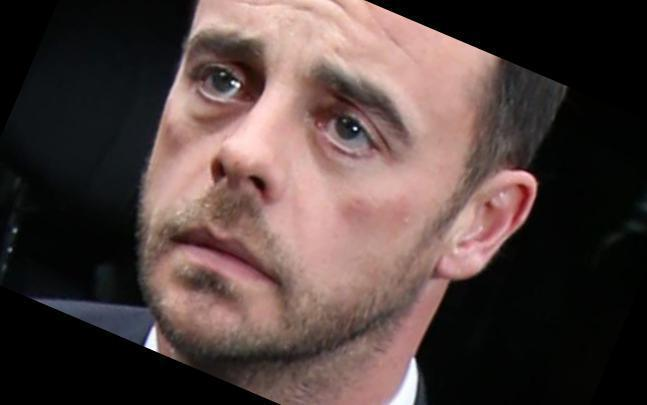Drunk: (166, 6, 434, 337)
